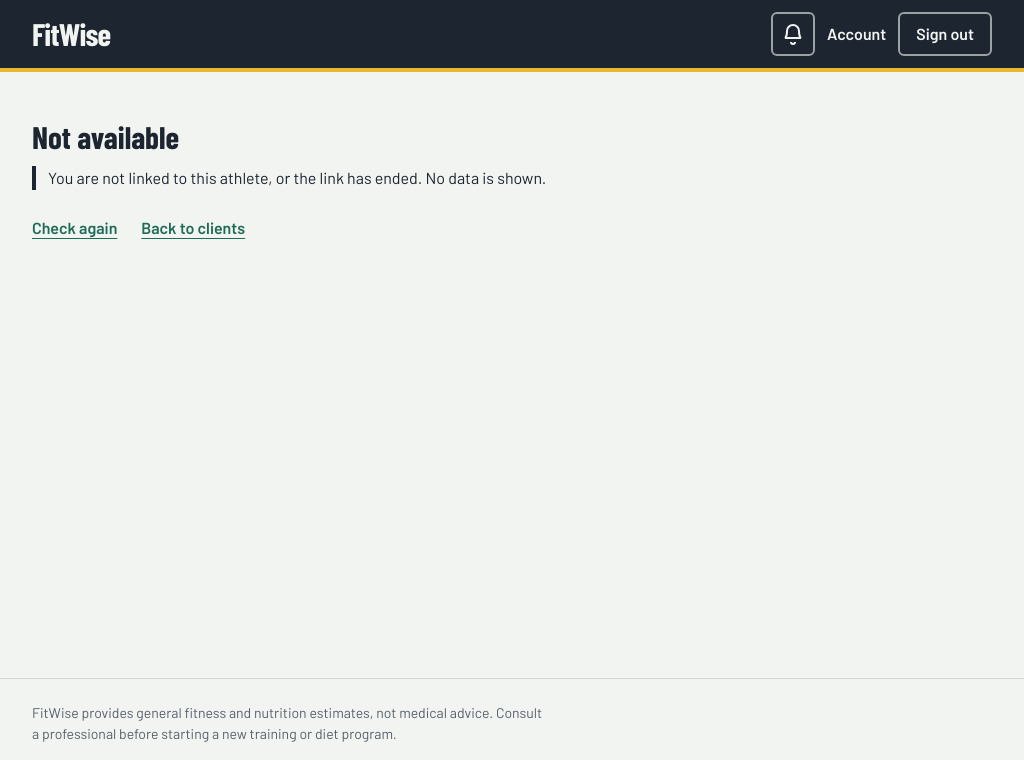
it: coach shell after a re-link (#48 QA) › shows the client again without leaving the page once the active links include it
Expected: the element with test id "not-linked" is shown, [32, 120, 672, 250]
Click the button "Check again" at [75, 228], box [32, 206, 117, 250]
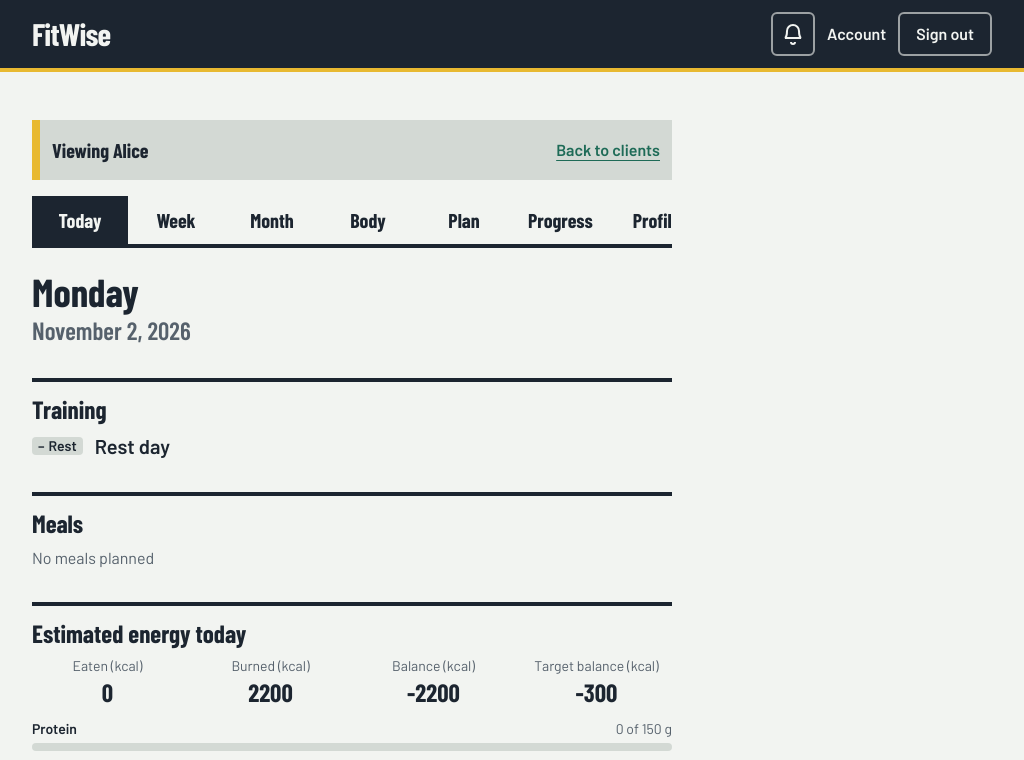
Expected: the element named "Athlete you are viewing" is shown, [32, 120, 672, 180]
Expected: the element with test id "not-linked" is gone
